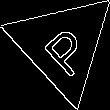P_NW: (32, 14, 92, 77)
